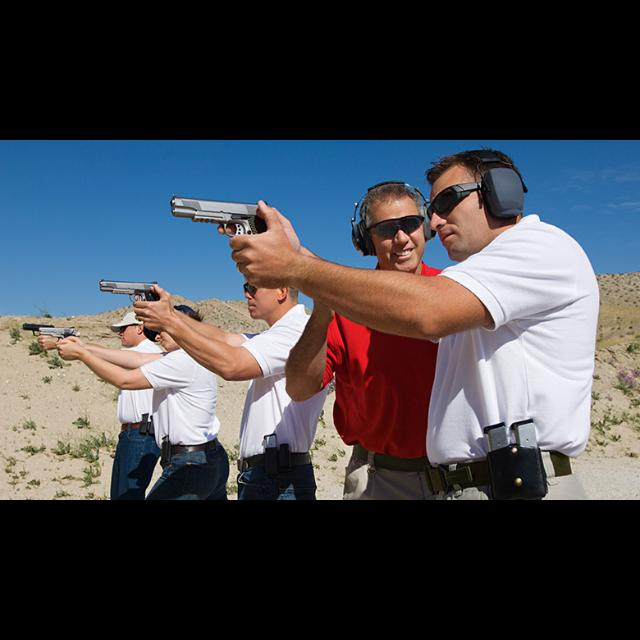handgun: (169, 192, 269, 238), (97, 276, 161, 304), (38, 325, 78, 343)
